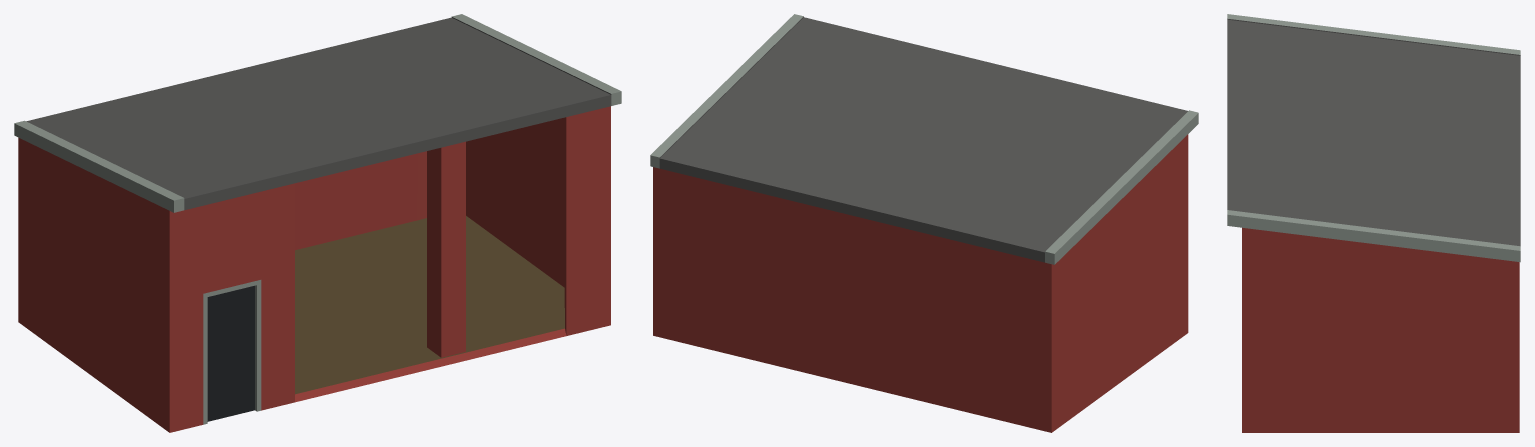
Rendered from Shelter_1.fbx.
The picture shows the model from 3 angles, left to right: view 1: azimuth 30°, elevation 25°; view 2: azimuth 150°, elevation 25°; view 3: azimuth 270°, elevation 25°; orthographic projection. The views are drawn at different scales.
Parts seen in each view (by area): view 1: Shelter_1; view 2: Shelter_1; view 3: Shelter_1.
Part boxes in pixels (x1,y1,x2,y2): Shelter_1: (14,14,621,432); Shelter_1: (650,14,1198,432); Shelter_1: (1227,14,1520,432).
Size of the model in its own units: 680 by 347 by 420.
